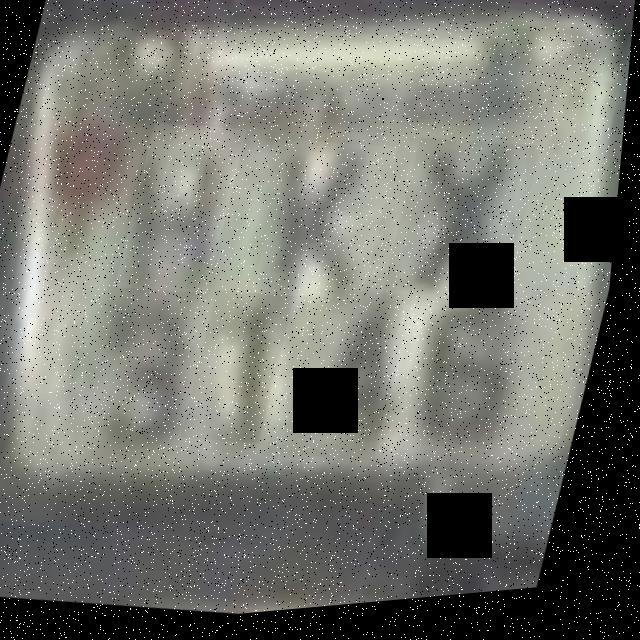1: (189, 289, 302, 455)
4: (288, 289, 421, 475)
6: (384, 296, 542, 492)
H: (119, 119, 251, 305)
K: (256, 138, 403, 316)
X: (385, 137, 546, 330)
